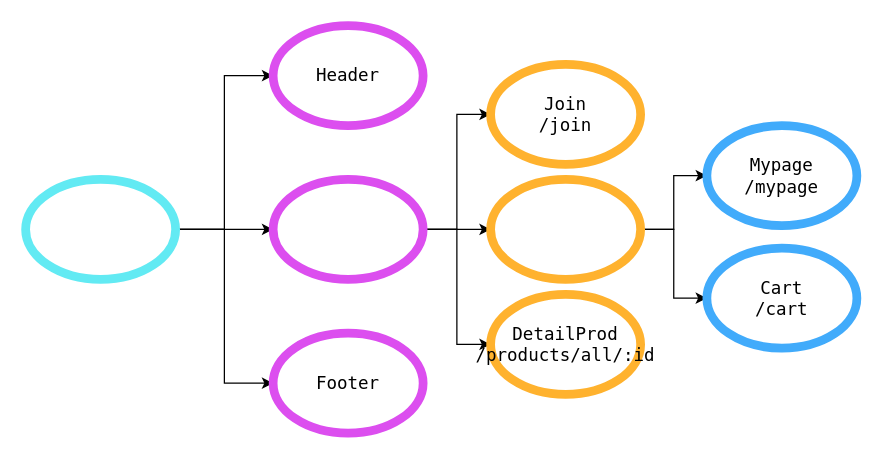
Some shapes in this 883 by 459 pixel diagram are drawn without their labels. The centre of each missing label's shape, as x and y in pixels:
app.js: (x=100, y=228)
Login /login: (x=565, y=228)
Main: Products /: (x=347, y=228)
